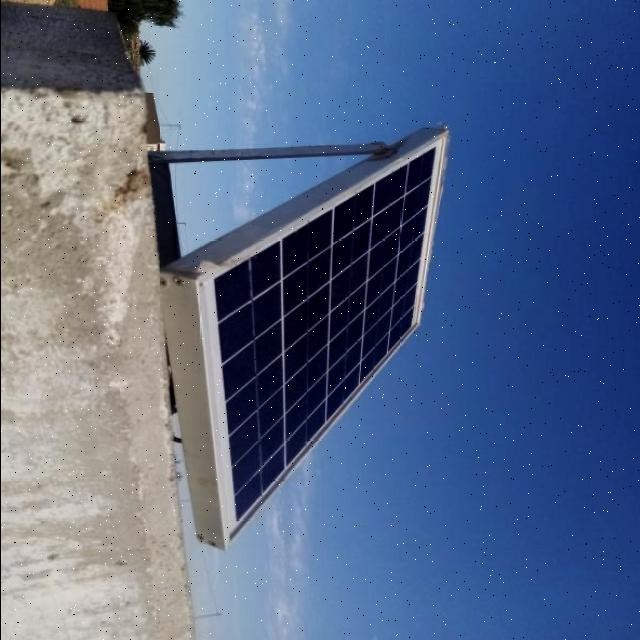Normal Solar Panel: (198, 131, 446, 549)
